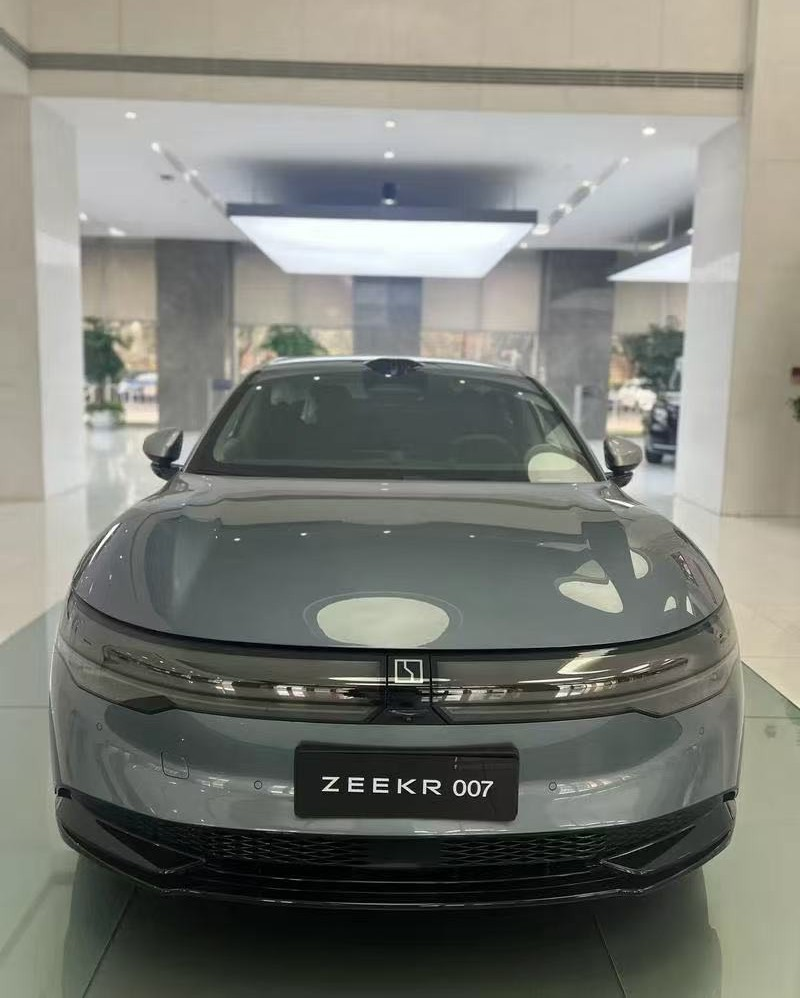ZEEKR: (395, 660, 422, 682)
